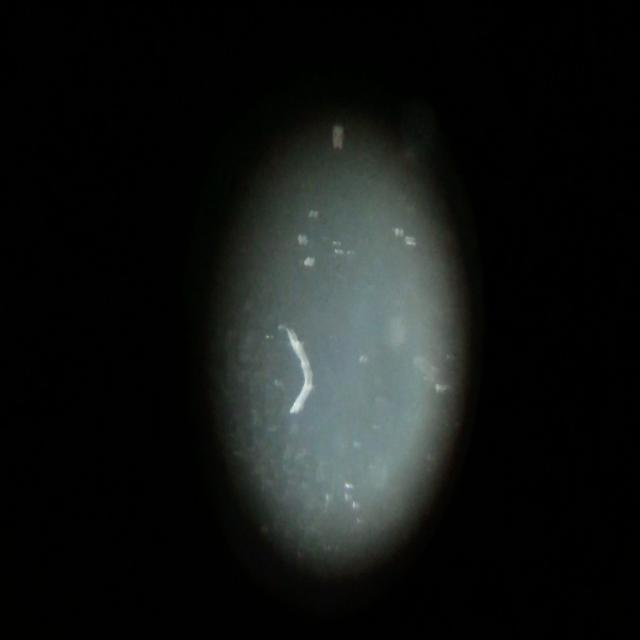psudo-nitzschia: (270, 306, 326, 436)
